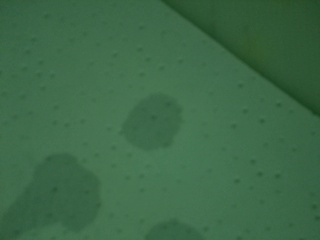Water_detected: (24, 160, 84, 217), (125, 100, 175, 141), (151, 220, 189, 240)
